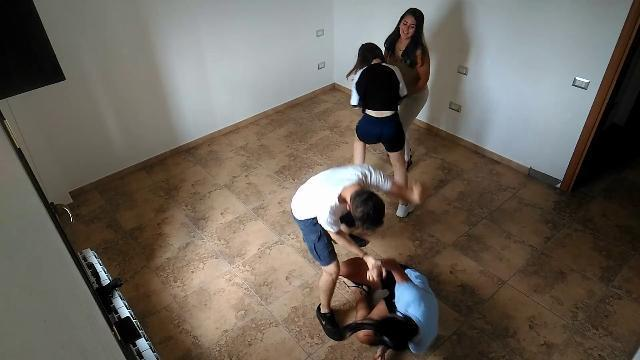violence: (288, 160, 436, 360), (344, 8, 430, 220)
